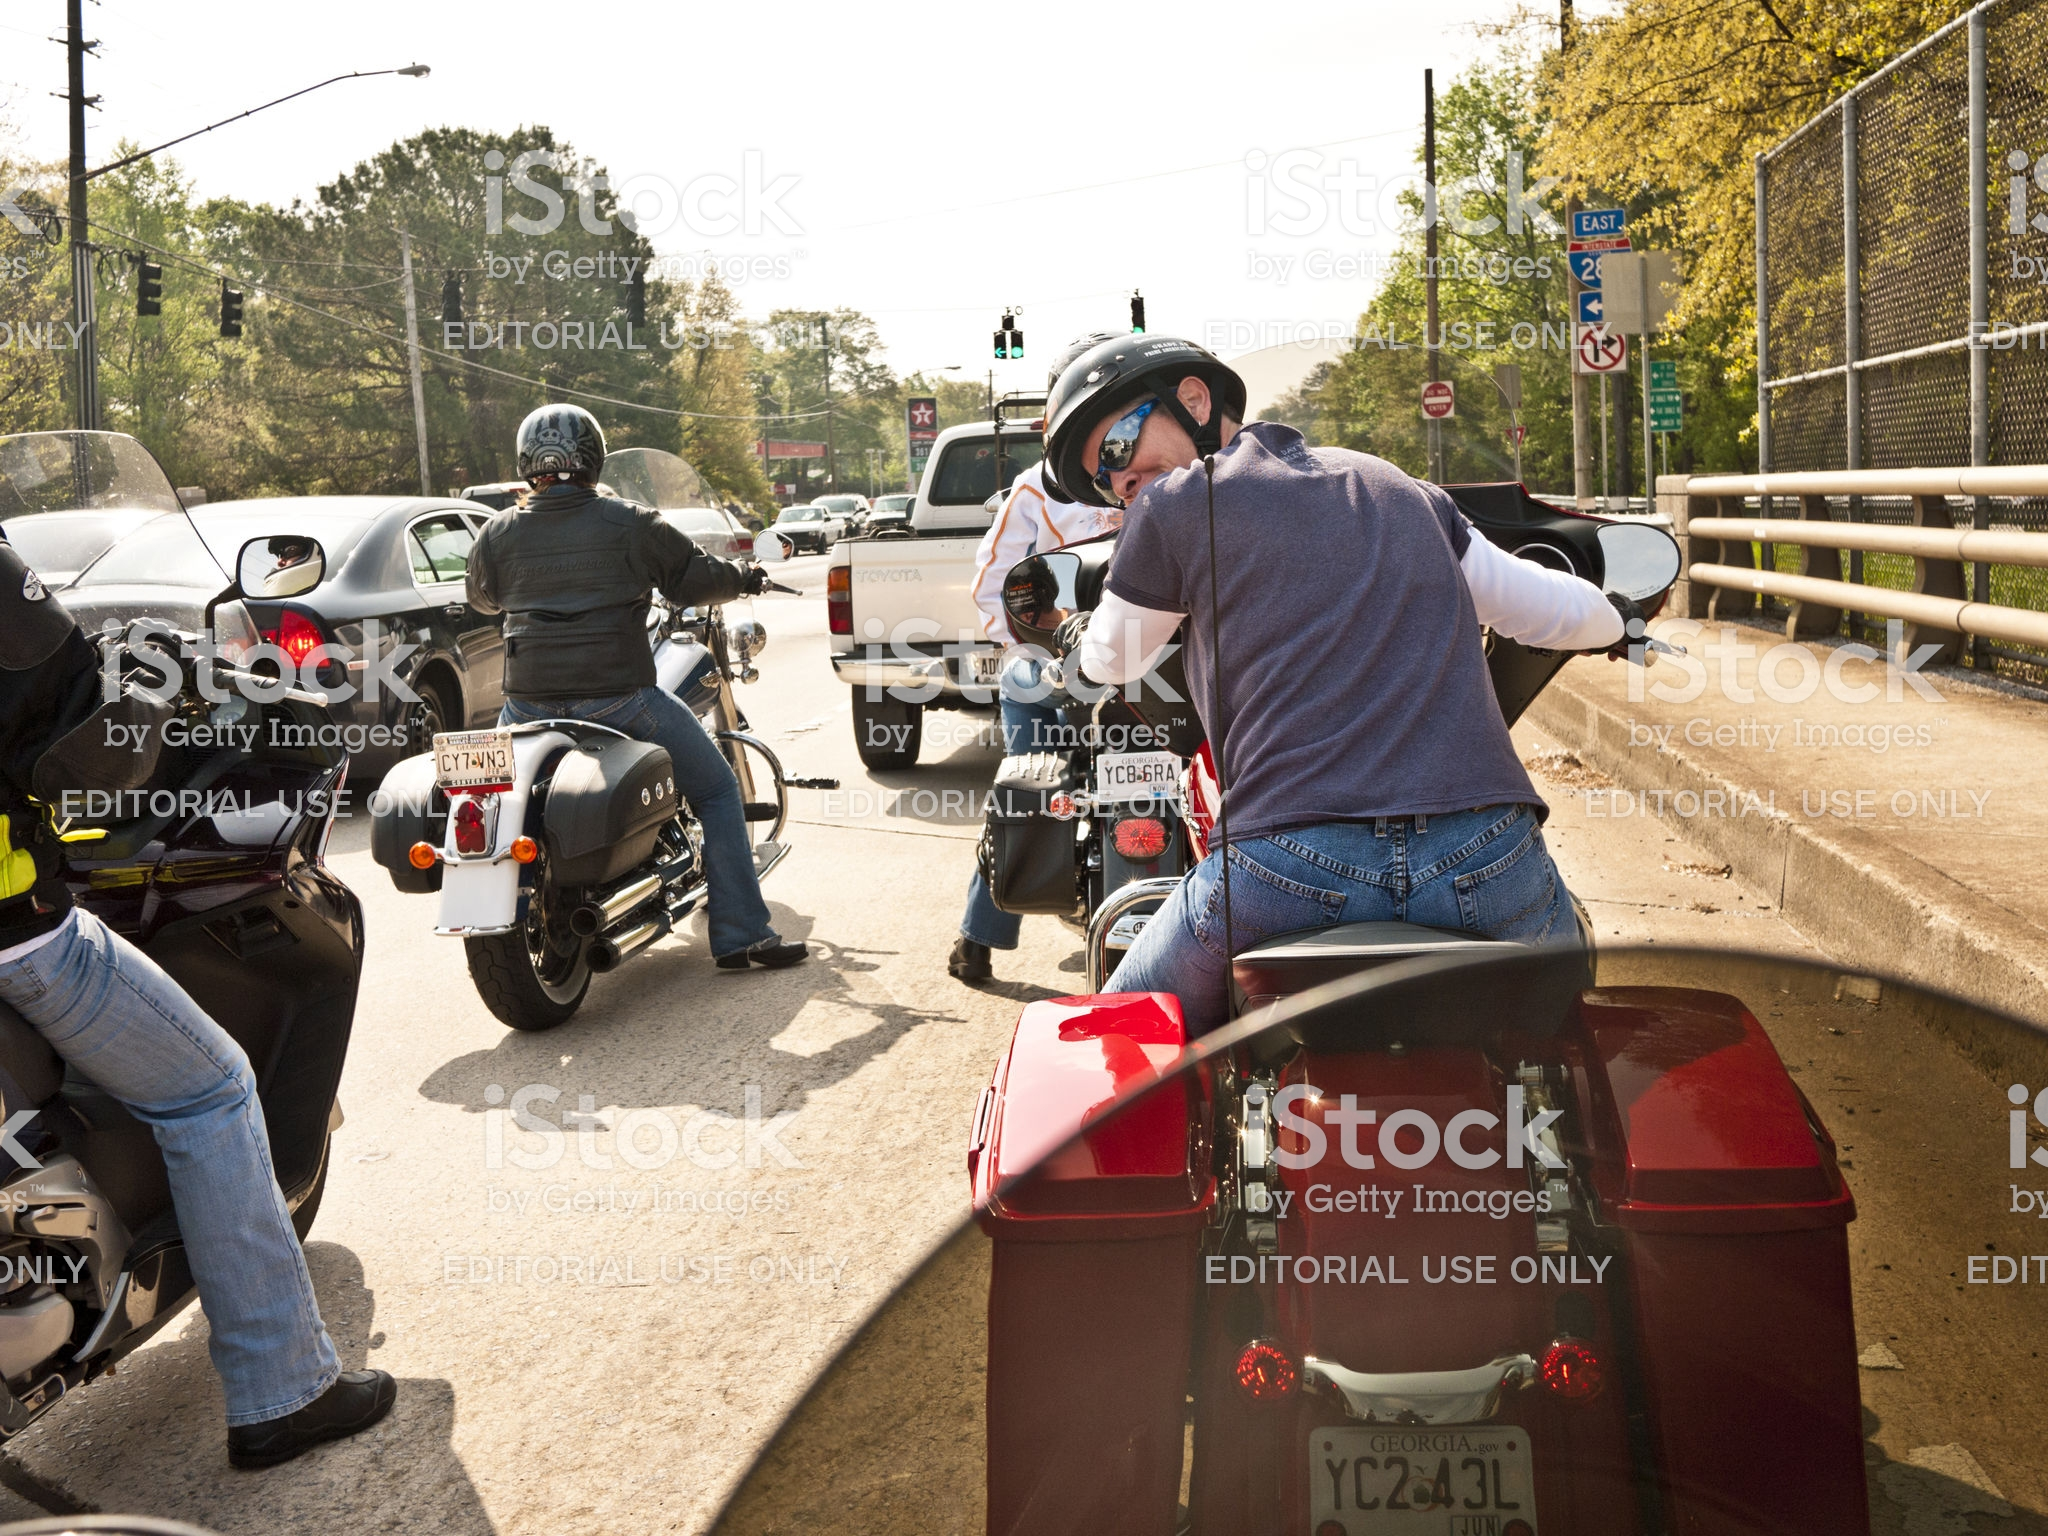helmet: (1056, 318, 1216, 452), (490, 381, 627, 478)
